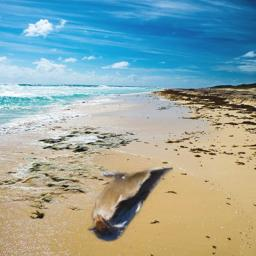Swallow: (87, 166, 173, 242)
